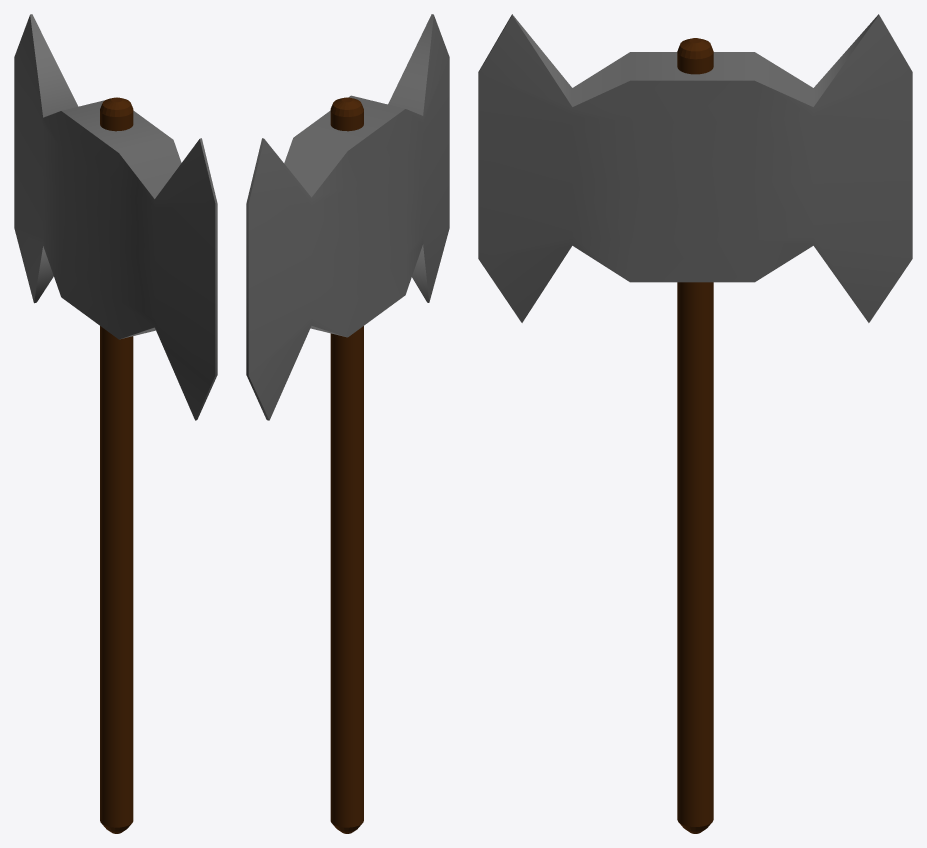
Rendered from Berzerker_Axe_Projectile.fbx.
The picture shows the model from 3 angles, left to right: view 1: azimuth 30°, elevation 25°; view 2: azimuth 150°, elevation 25°; view 3: azimuth 270°, elevation 25°; orthographic projection. The views are drawn at different scales.
Parts seen in each view (by area): view 1: pCube4, pCylinder1; view 2: pCube4, pCylinder1; view 3: pCube4, pCylinder1.
Boxes of the visible parts, x1,y1,x2,y2 form: pCube4: [14, 14, 217, 420]; pCylinder1: [100, 97, 133, 833]; pCube4: [246, 14, 449, 420]; pCylinder1: [330, 97, 363, 833]; pCube4: [478, 14, 912, 322]; pCylinder1: [677, 38, 713, 833].
Bounding box in the file's own units: 0.4683 × 6.19 × 2.99.
